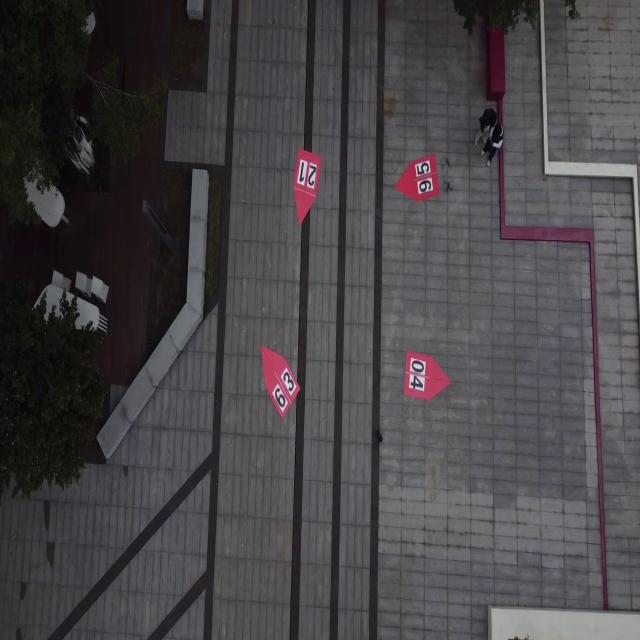-sign-: (262, 346, 300, 420), (404, 351, 452, 401), (293, 146, 322, 224), (395, 154, 441, 202)
